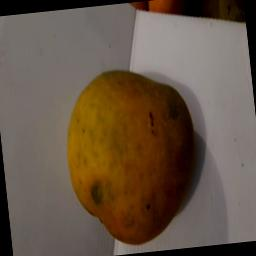Mango Ripe: (42, 56, 211, 252)
